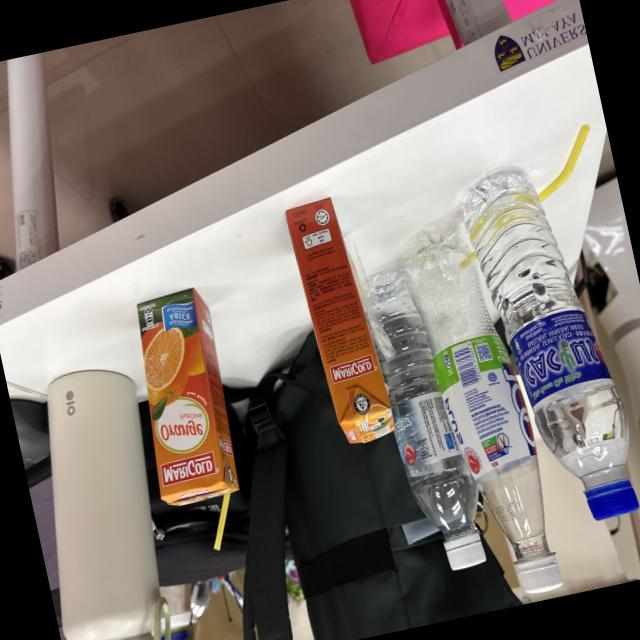drink_carton: (104, 268, 278, 573), (276, 169, 402, 460)
plastic_bottle: (446, 126, 640, 557), (392, 198, 578, 614), (347, 248, 506, 599)
